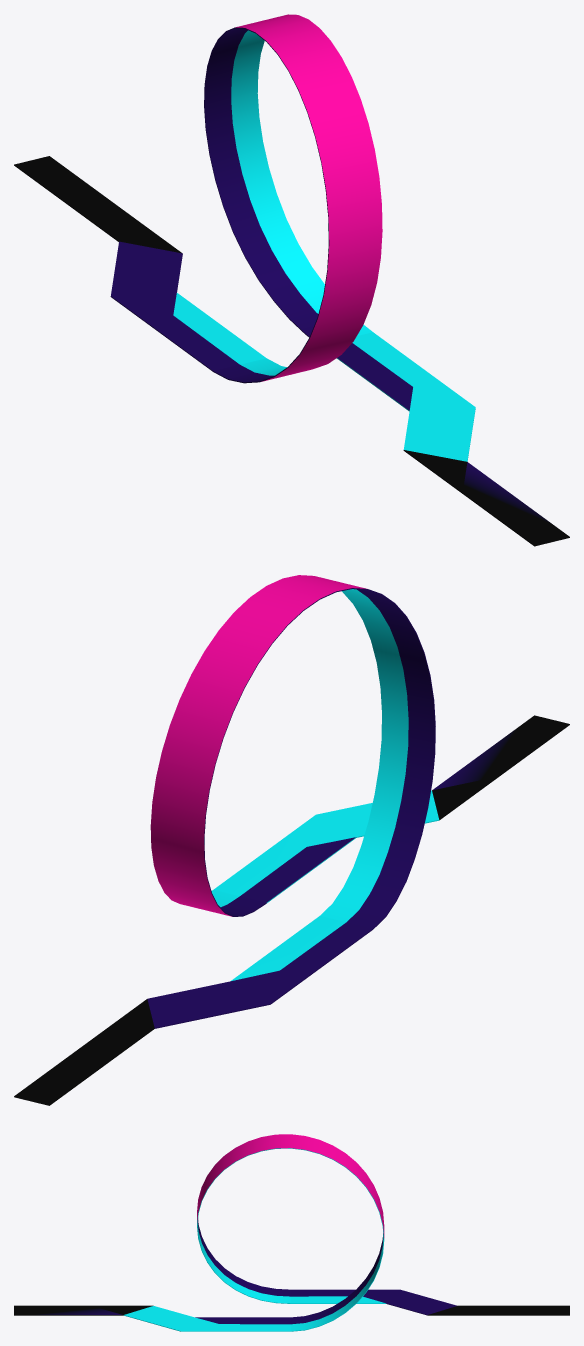
File: Loop.FBX
3 renders of one model, top to bottom at view 1: azimuth 30°, elevation 25°; view 2: azimuth 150°, elevation 25°; view 3: azimuth 270°, elevation 25°, orthographic. The views are drawn at different scales.
Visible parts, largest first — view 1: Loop; view 2: Loop; view 3: Loop.
Part boxes in pixels (left/top/right/bottom): Loop: left=14, top=14, right=569, bottom=546; Loop: left=14, top=575, right=569, bottom=1105; Loop: left=14, top=1134, right=569, bottom=1331.
Size of the model in its own units: 3600 by 20300 by 6840.
